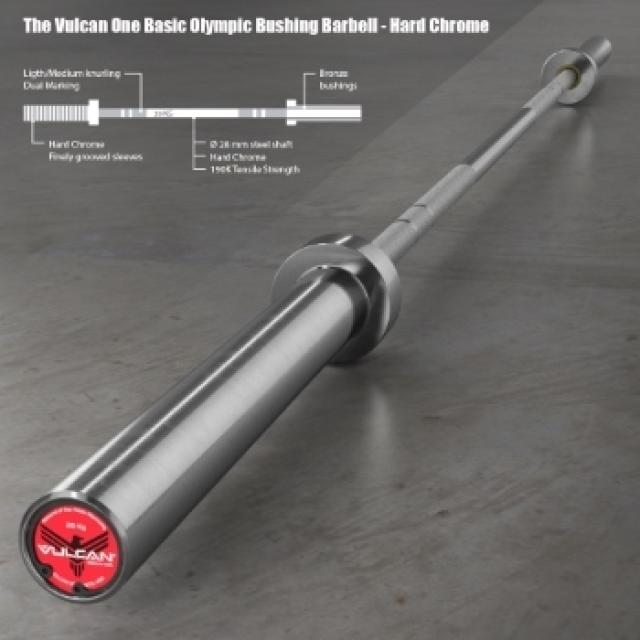barbell_plate_side: (463, 33, 613, 603), (16, 33, 165, 603)
